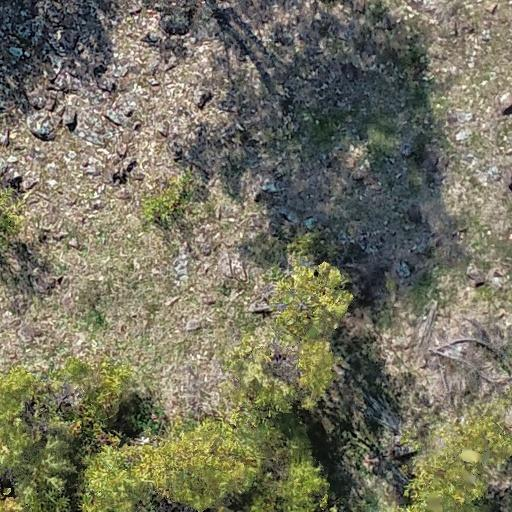stone: (28, 114, 56, 140), (97, 74, 121, 90), (102, 108, 123, 126), (62, 106, 78, 128), (194, 90, 212, 108), (197, 292, 216, 307), (42, 90, 56, 110), (114, 187, 134, 200), (29, 92, 45, 108), (67, 238, 84, 251), (185, 318, 202, 331), (123, 158, 138, 172), (164, 296, 181, 307), (118, 143, 129, 156), (146, 31, 159, 42)
